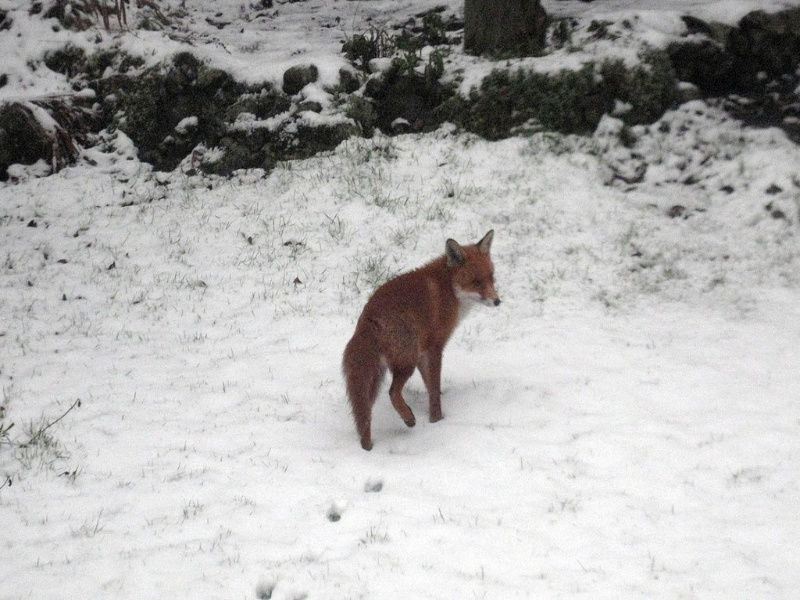fox: (339, 223, 513, 456)
